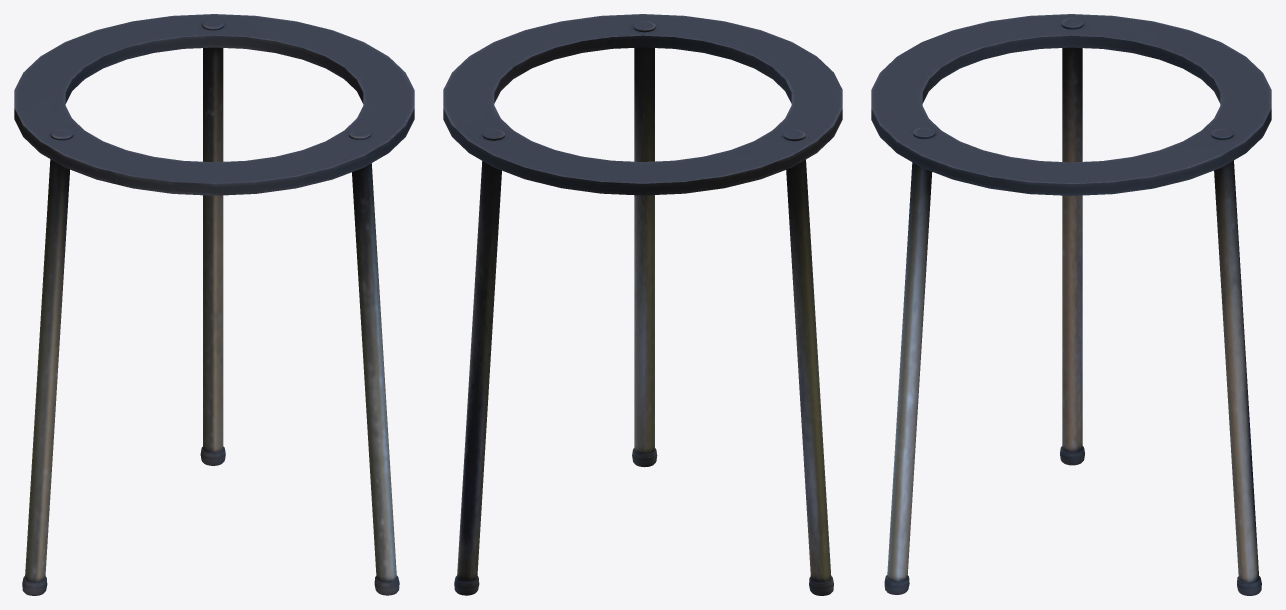
Rendered from tripod.glb.
3 views of the same model, side by side, from view 1: azimuth 30°, elevation 25°; view 2: azimuth 150°, elevation 25°; view 3: azimuth 270°, elevation 25° (orthographic).
Visible parts, largest first — view 1: tripod; view 2: tripod; view 3: tripod.
Boxes of the visible parts, x1,y1,x2,y2 form: tripod: (14,14,414,595); tripod: (443,14,842,595); tripod: (871,14,1271,595).
Bounding box in the file's own units: 0.1459 × 0.1728 × 0.1387.
Materials: 1 (1 with a texture image).
